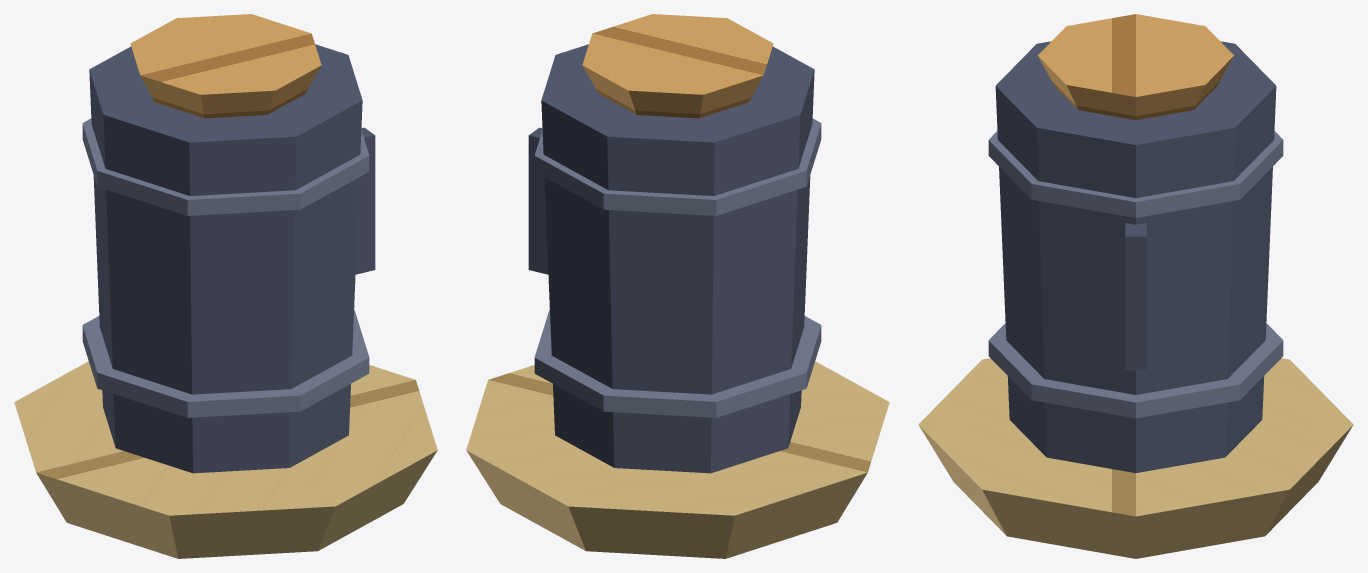
File: prp_heater_old.glb
3 views of the same model, side by side, from view 1: azimuth 30°, elevation 25°; view 2: azimuth 150°, elevation 25°; view 3: azimuth 270°, elevation 25° (orthographic).
Parts seen in each view (by area): view 1: lod0__heater_alloy, lod0__heater_clay; view 2: lod0__heater_alloy, lod0__heater_clay; view 3: lod0__heater_alloy, lod0__heater_clay.
Part boxes in pixels (bbox=[...]): lod0__heater_alloy: bbox=[82, 44, 375, 473]; lod0__heater_clay: bbox=[14, 14, 437, 558]; lod0__heater_alloy: bbox=[528, 44, 821, 473]; lod0__heater_clay: bbox=[466, 14, 889, 558]; lod0__heater_alloy: bbox=[988, 41, 1283, 472]; lod0__heater_clay: bbox=[918, 14, 1353, 558].
Bounding box in the file's own units: 1.24 × 1.34 × 1.24.
2 materials, 1 textured.
